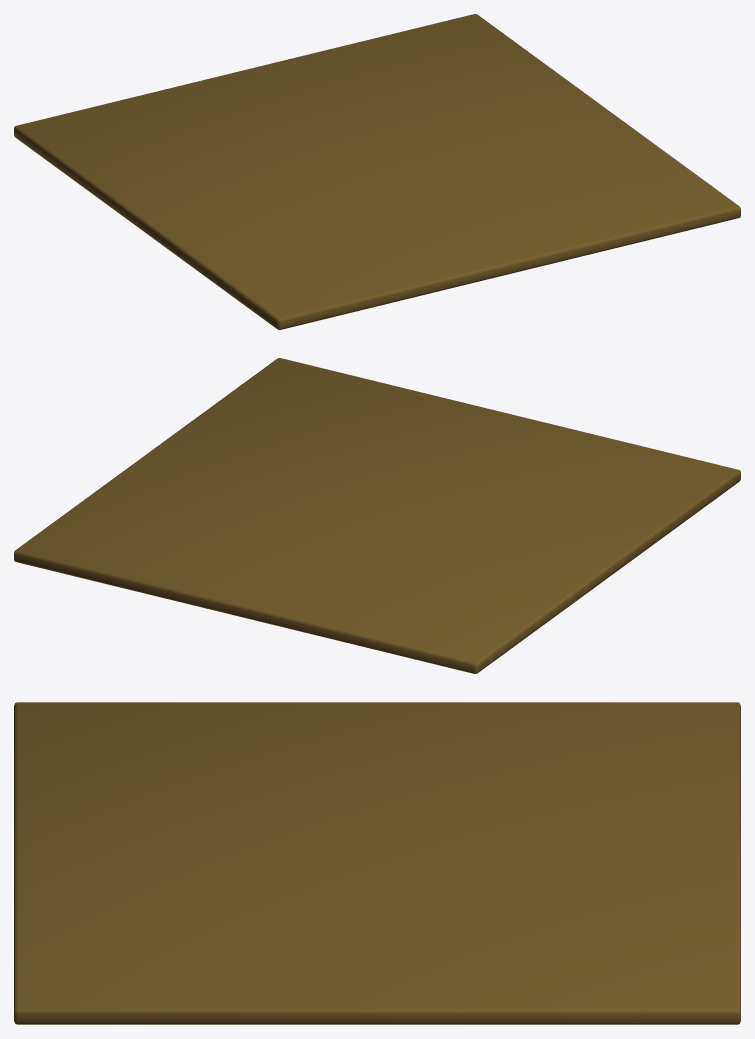
The model's file is FM_H_Doll_Arch_Design_Holder_001.fbx.
The picture shows the model from 3 angles, top to bottom: view 1: azimuth 30°, elevation 25°; view 2: azimuth 150°, elevation 25°; view 3: azimuth 270°, elevation 25°; orthographic projection. The views are drawn at different scales.
Parts seen in each view (by area): view 1: H_Doll_Arch_Design_Holder_001; view 2: H_Doll_Arch_Design_Holder_001; view 3: H_Doll_Arch_Design_Holder_001.
Part boxes in pixels (<box>): H_Doll_Arch_Design_Holder_001: <box>14,14,740,329</box>; H_Doll_Arch_Design_Holder_001: <box>14,358,740,673</box>; H_Doll_Arch_Design_Holder_001: <box>14,702,740,1024</box>.
Size of the model in its own units: 4.31 by 0.1045 by 4.28.
